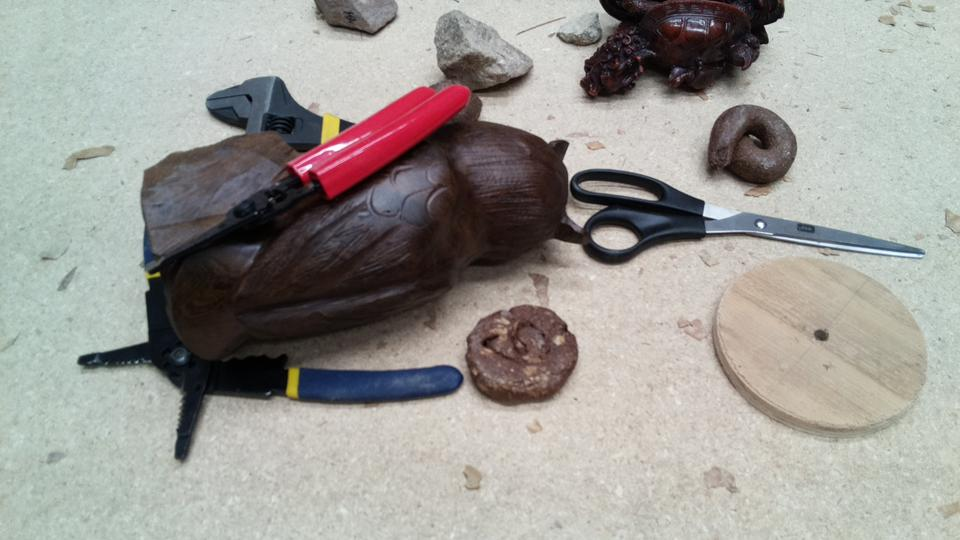poop: (462, 302, 582, 409), (705, 101, 800, 189)
